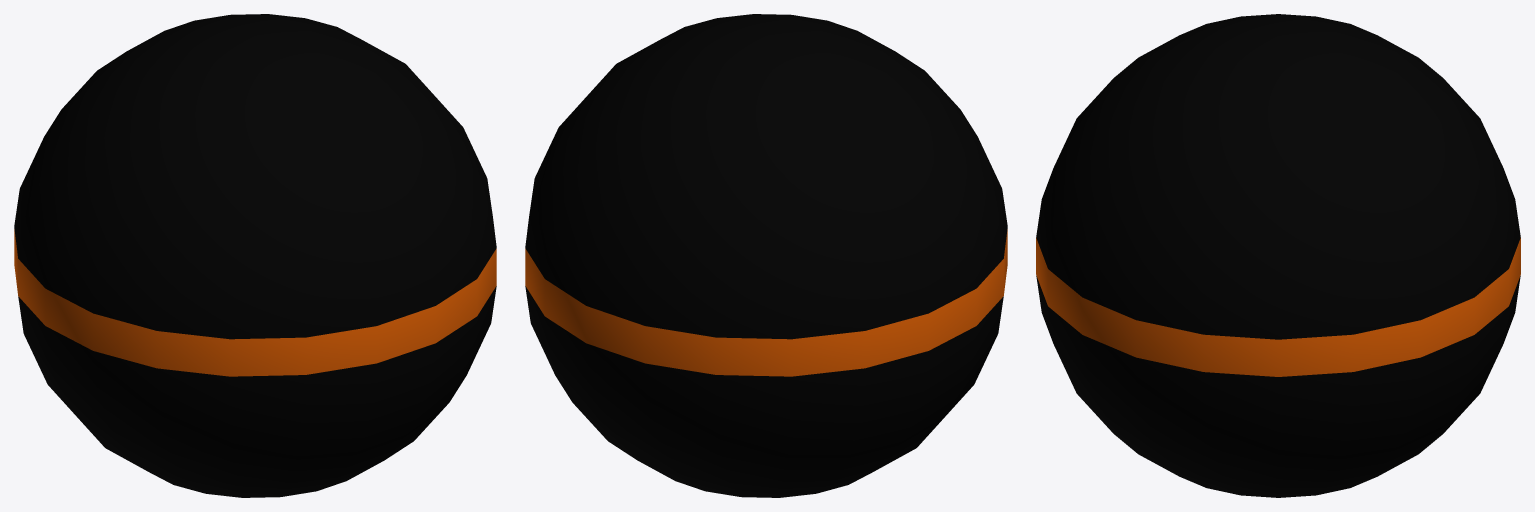
File: player_sphere00.fbx
3 views of the same model, side by side, from view 1: azimuth 30°, elevation 25°; view 2: azimuth 150°, elevation 25°; view 3: azimuth 270°, elevation 25° (orthographic).
Visible parts, largest first — view 1: Sphere; view 2: Sphere; view 3: Sphere.
Boxes of the visible parts, x1,y1,x2,y2 form: Sphere: (14, 14, 496, 497); Sphere: (525, 14, 1007, 497); Sphere: (1036, 14, 1520, 497).
Size of the model in its own units: 100 by 100 by 100.
